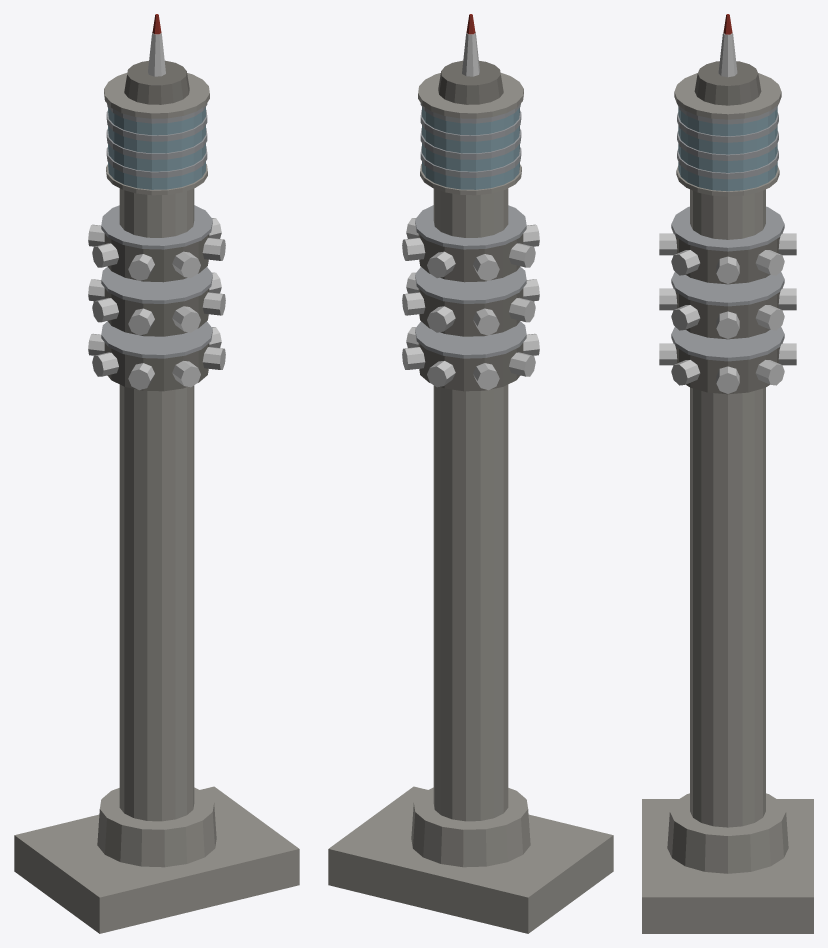
File: bt_tower.glb
The picture shows the model from 3 angles, left to right: view 1: azimuth 30°, elevation 25°; view 2: azimuth 150°, elevation 25°; view 3: azimuth 270°, elevation 25°; orthographic projection.
Parts seen in each view (by area): view 1: bt_tower; view 2: bt_tower; view 3: bt_tower.
Boxes of the visible parts, x1,y1,x2,y2 form: bt_tower: [14, 14, 299, 933]; bt_tower: [328, 14, 613, 933]; bt_tower: [642, 14, 813, 933].
Size of the model in its own units: 46 by 190 by 34.
